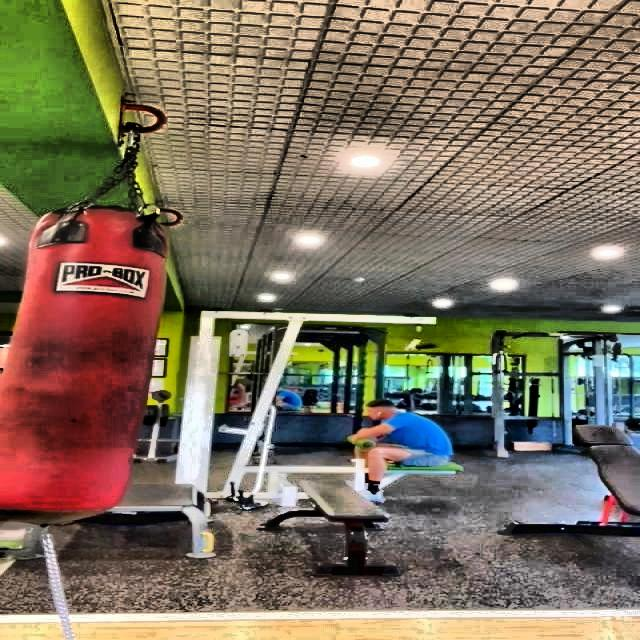boxing-bag: (2, 93, 166, 530)
